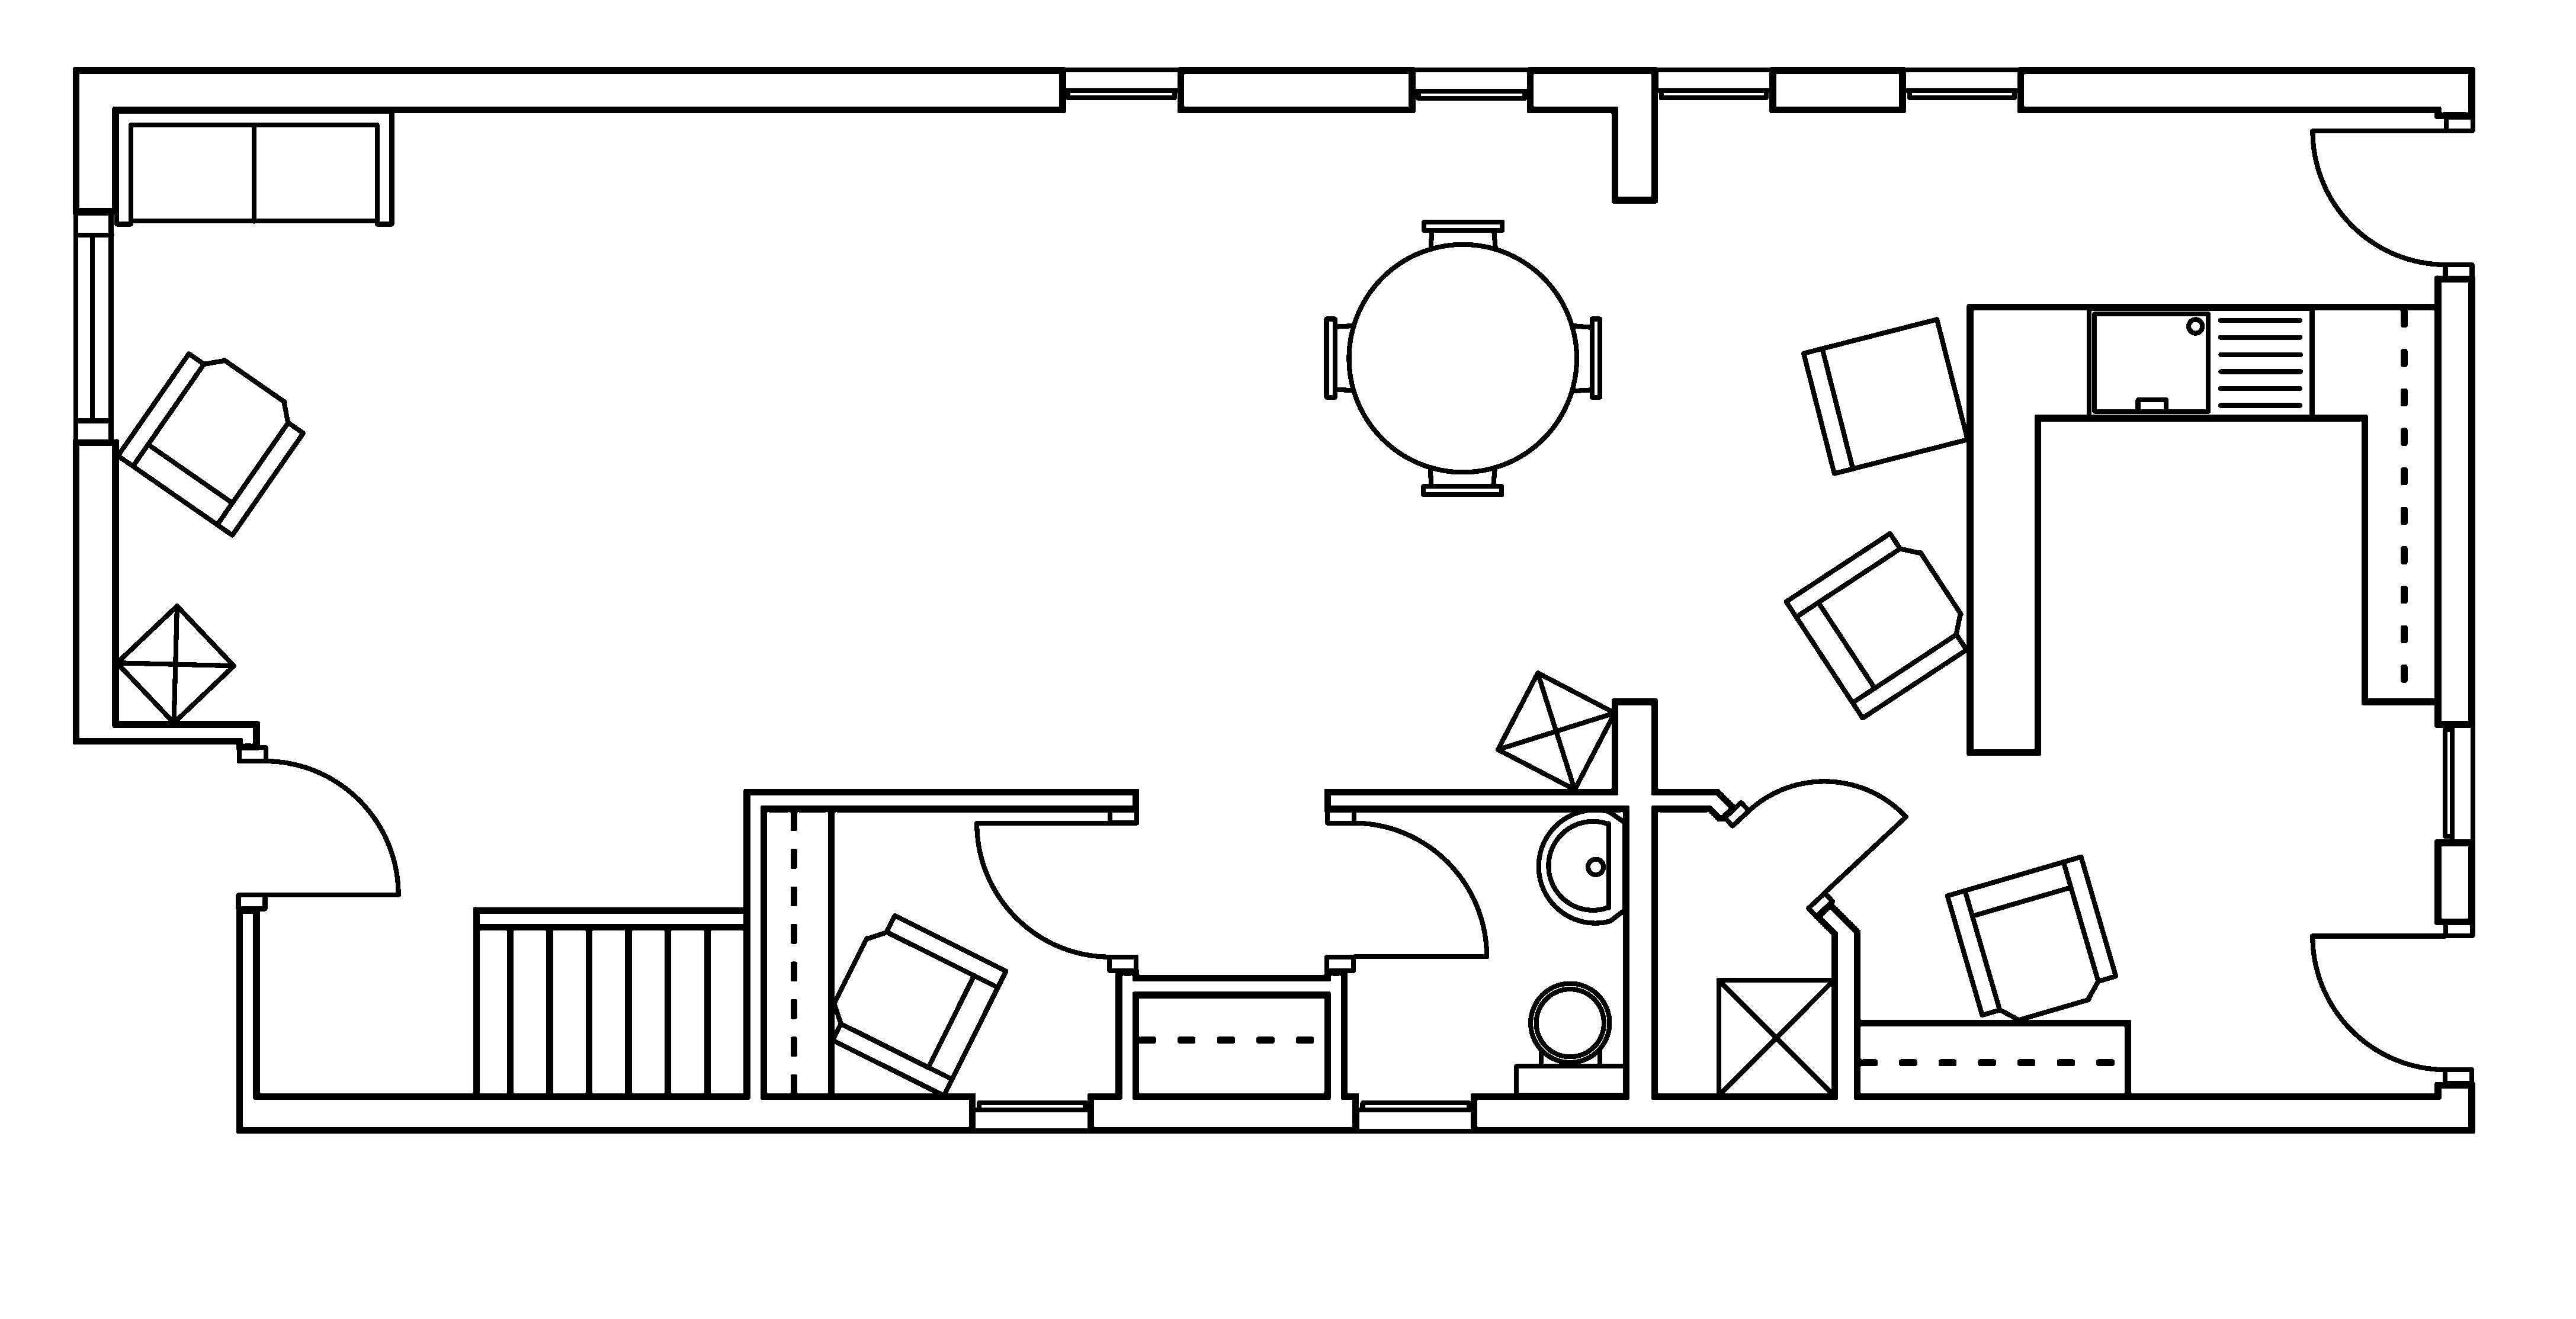armchair: (114, 350, 306, 538), (1782, 530, 1969, 720), (829, 912, 1009, 1099), (1944, 853, 2119, 1023)
coffee_table: (113, 602, 237, 725), (1493, 670, 1618, 792), (1715, 976, 1836, 1099)
large_sink: (1513, 981, 1628, 1097)
large_sofa: (113, 108, 395, 227)
round_table: (1323, 219, 1602, 496)
sink: (2085, 305, 2314, 421)
small_sink: (1535, 808, 1628, 925)
small_sofa: (1801, 316, 1971, 476)
